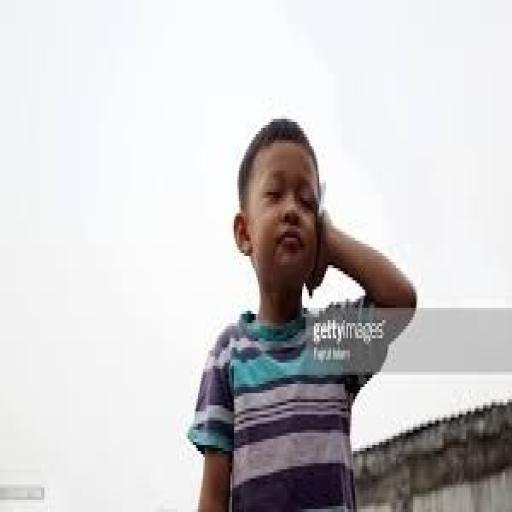texting: (186, 113, 418, 509)
